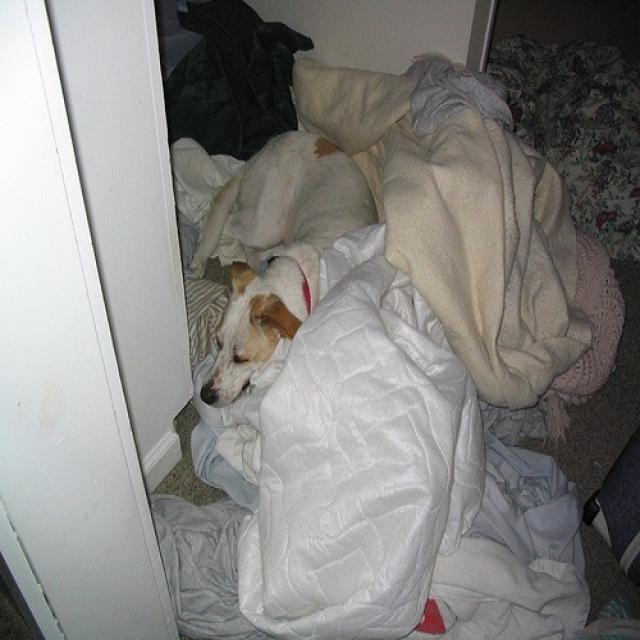dog: (188, 130, 380, 406)
